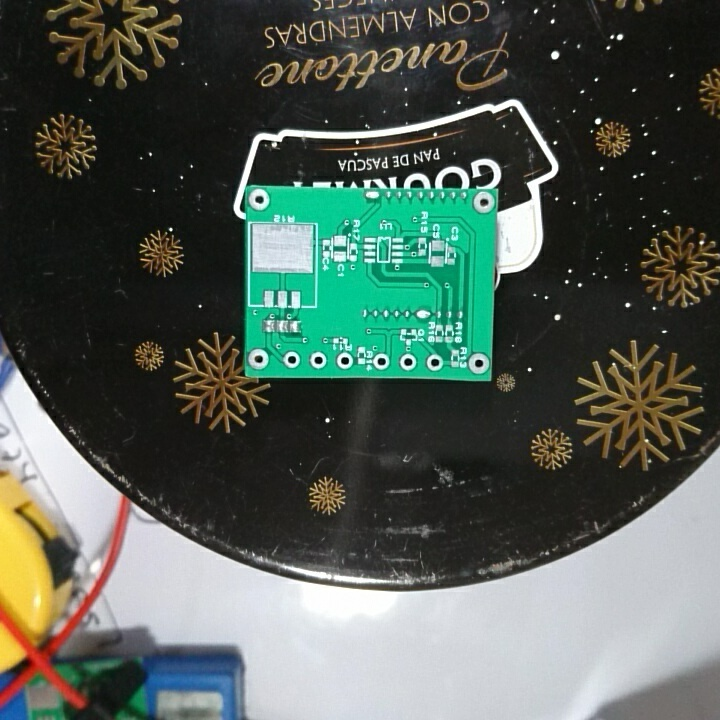F: (246, 186, 272, 214), (246, 346, 273, 371), (467, 350, 491, 378), (472, 189, 494, 213), (308, 349, 330, 371), (397, 352, 419, 374), (281, 349, 302, 370), (424, 353, 445, 374), (370, 352, 392, 372), (336, 352, 354, 373)
P: (362, 187, 381, 204), (414, 306, 432, 323)
